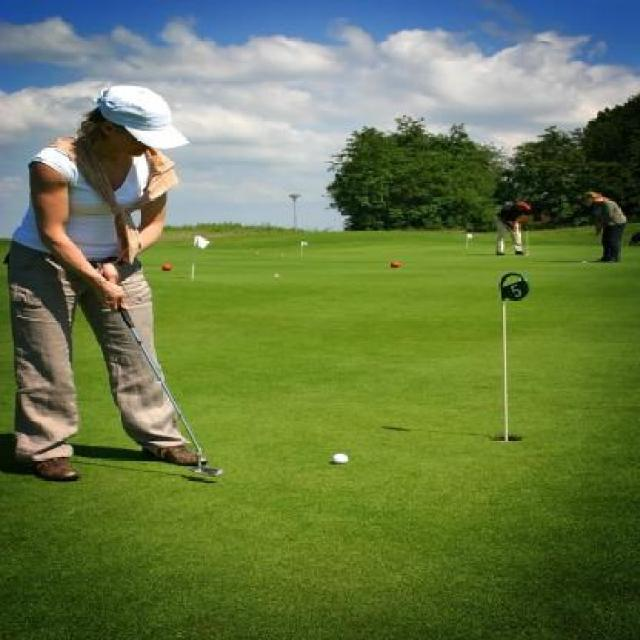club head: (188, 456, 226, 478)
